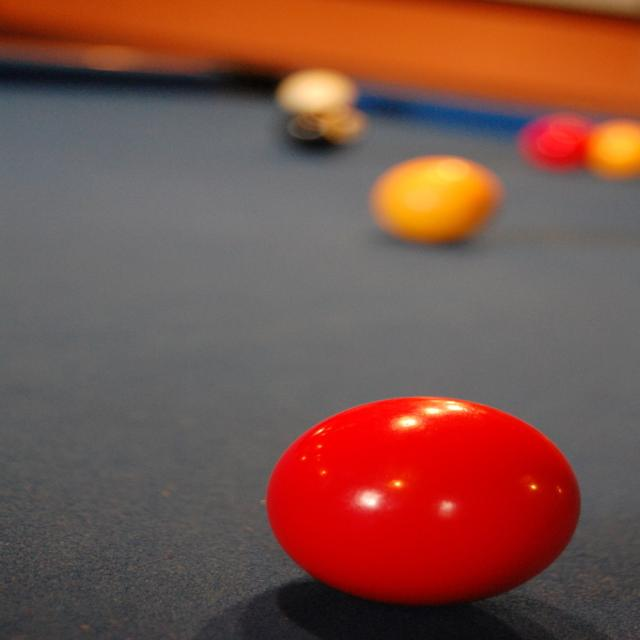Ball: (266, 66, 640, 607)
